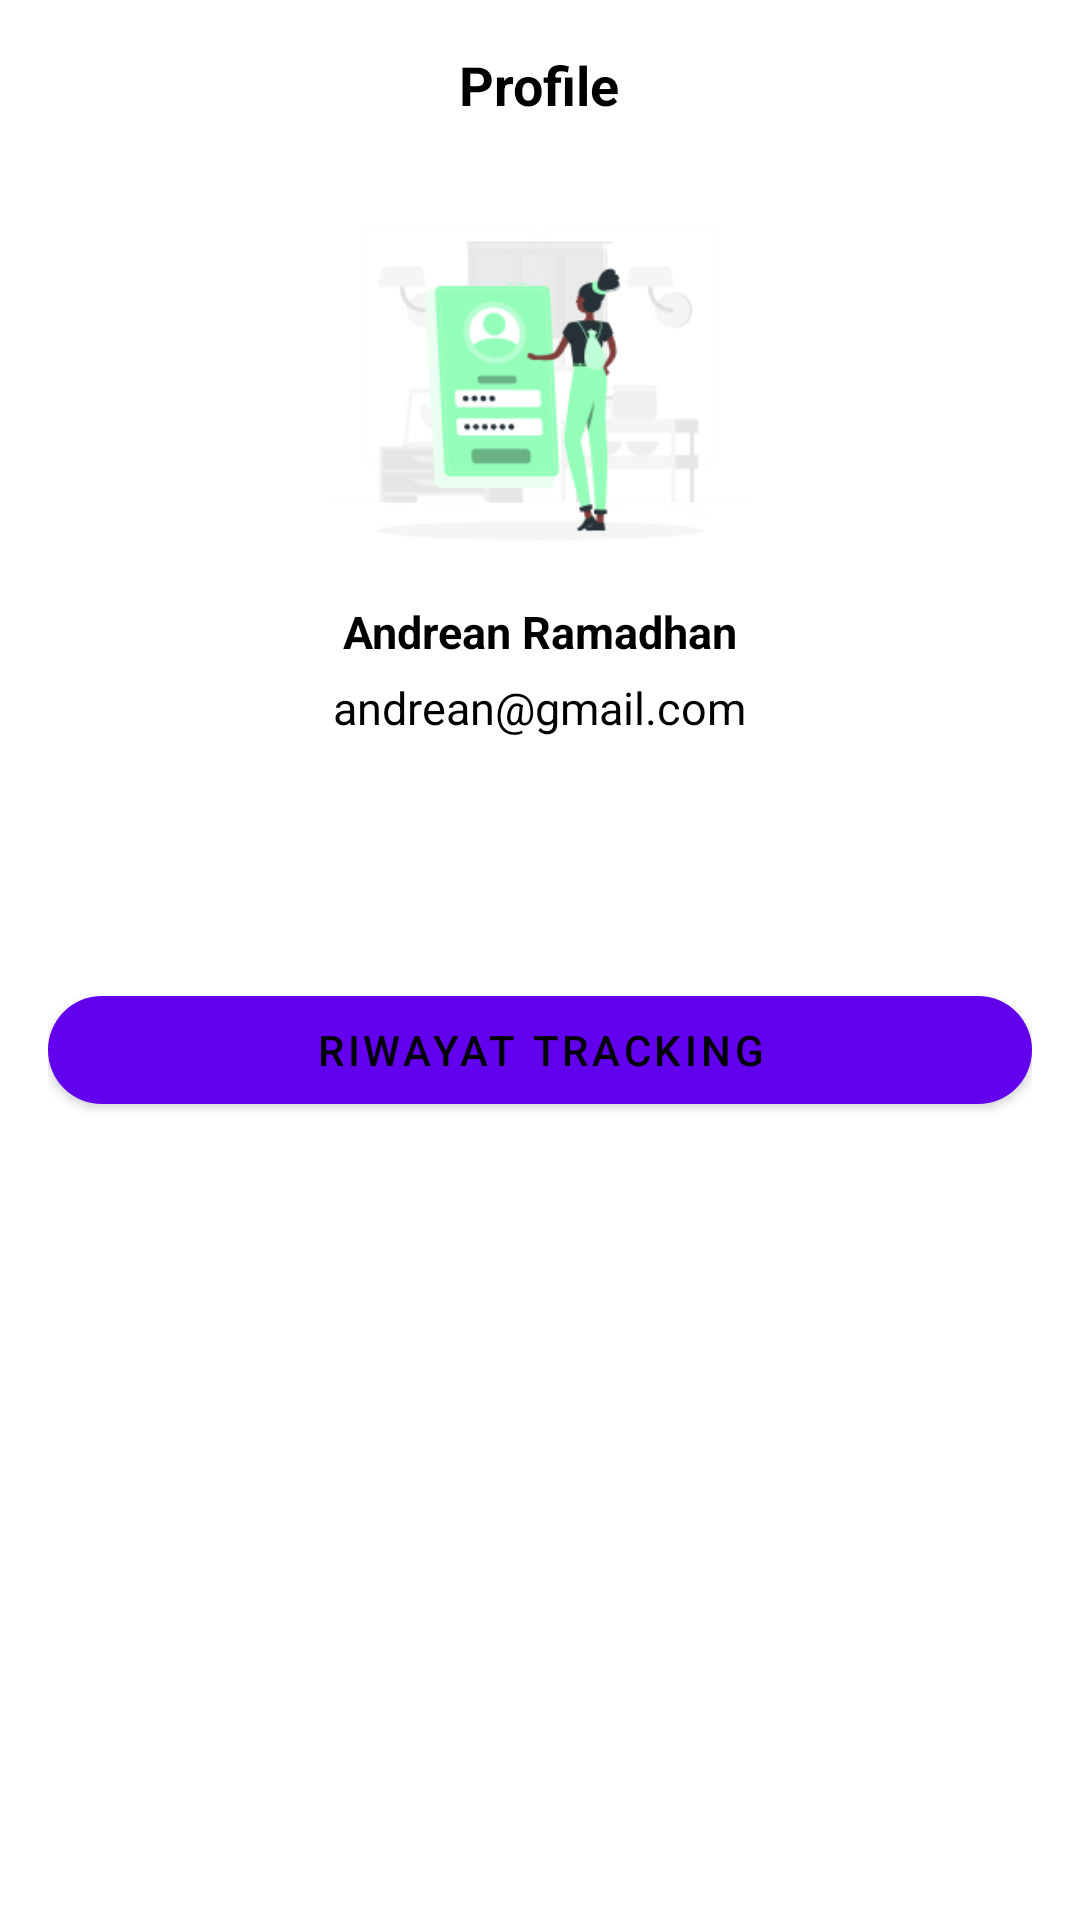

Screen size 1080w x 1920h. Icon name, then its center in pixels as (x=x, y=y):
loginn: (x=540, y=387)
